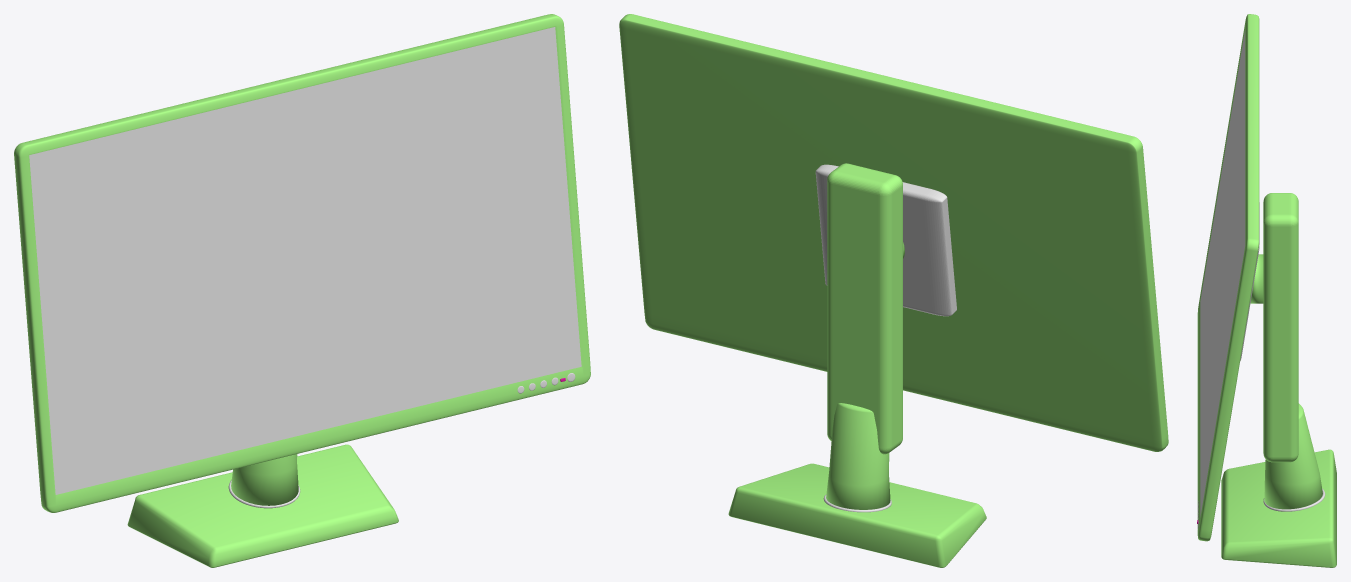
File: monitorfinal.fbx
3 views of the same model, side by side, from view 1: azimuth 30°, elevation 25°; view 2: azimuth 150°, elevation 25°; view 3: azimuth 270°, elevation 25° (orthographic). The views are drawn at different scales.
Parts seen in each view (by area): view 1: Plane.001, Cube, Cube.002, Cylinder; view 2: Cube, Cube.001, Cube.002, Cube.003, Cylinder; view 3: Plane.001, Cube.001, Cube.002, Cube, Cylinder, Cylinder.001, Torus, Cube.003.
Part boxes in pixels (box(x1,y1,x2,y2)): Plane.001: box(29, 27, 581, 494); Cube: box(14, 14, 590, 512); Cube.002: box(127, 444, 398, 567); Cylinder: box(231, 454, 298, 505); Cube: box(619, 14, 1168, 451); Cube.001: box(827, 163, 902, 454); Cube.002: box(728, 463, 986, 567); Cube.003: box(815, 164, 956, 316); Cylinder: box(826, 403, 890, 509); Plane.001: box(1200, 30, 1245, 516); Cube.001: box(1263, 193, 1298, 462); Cube.002: box(1221, 449, 1336, 567); Cube: box(1197, 14, 1259, 541); Cylinder: box(1264, 403, 1322, 509); Cylinder.001: box(1250, 254, 1263, 303); Torus: box(1263, 488, 1325, 511); Cube.003: box(1240, 202, 1259, 360).
Size of the model in its own units: 320 by 255 by 81.74.
